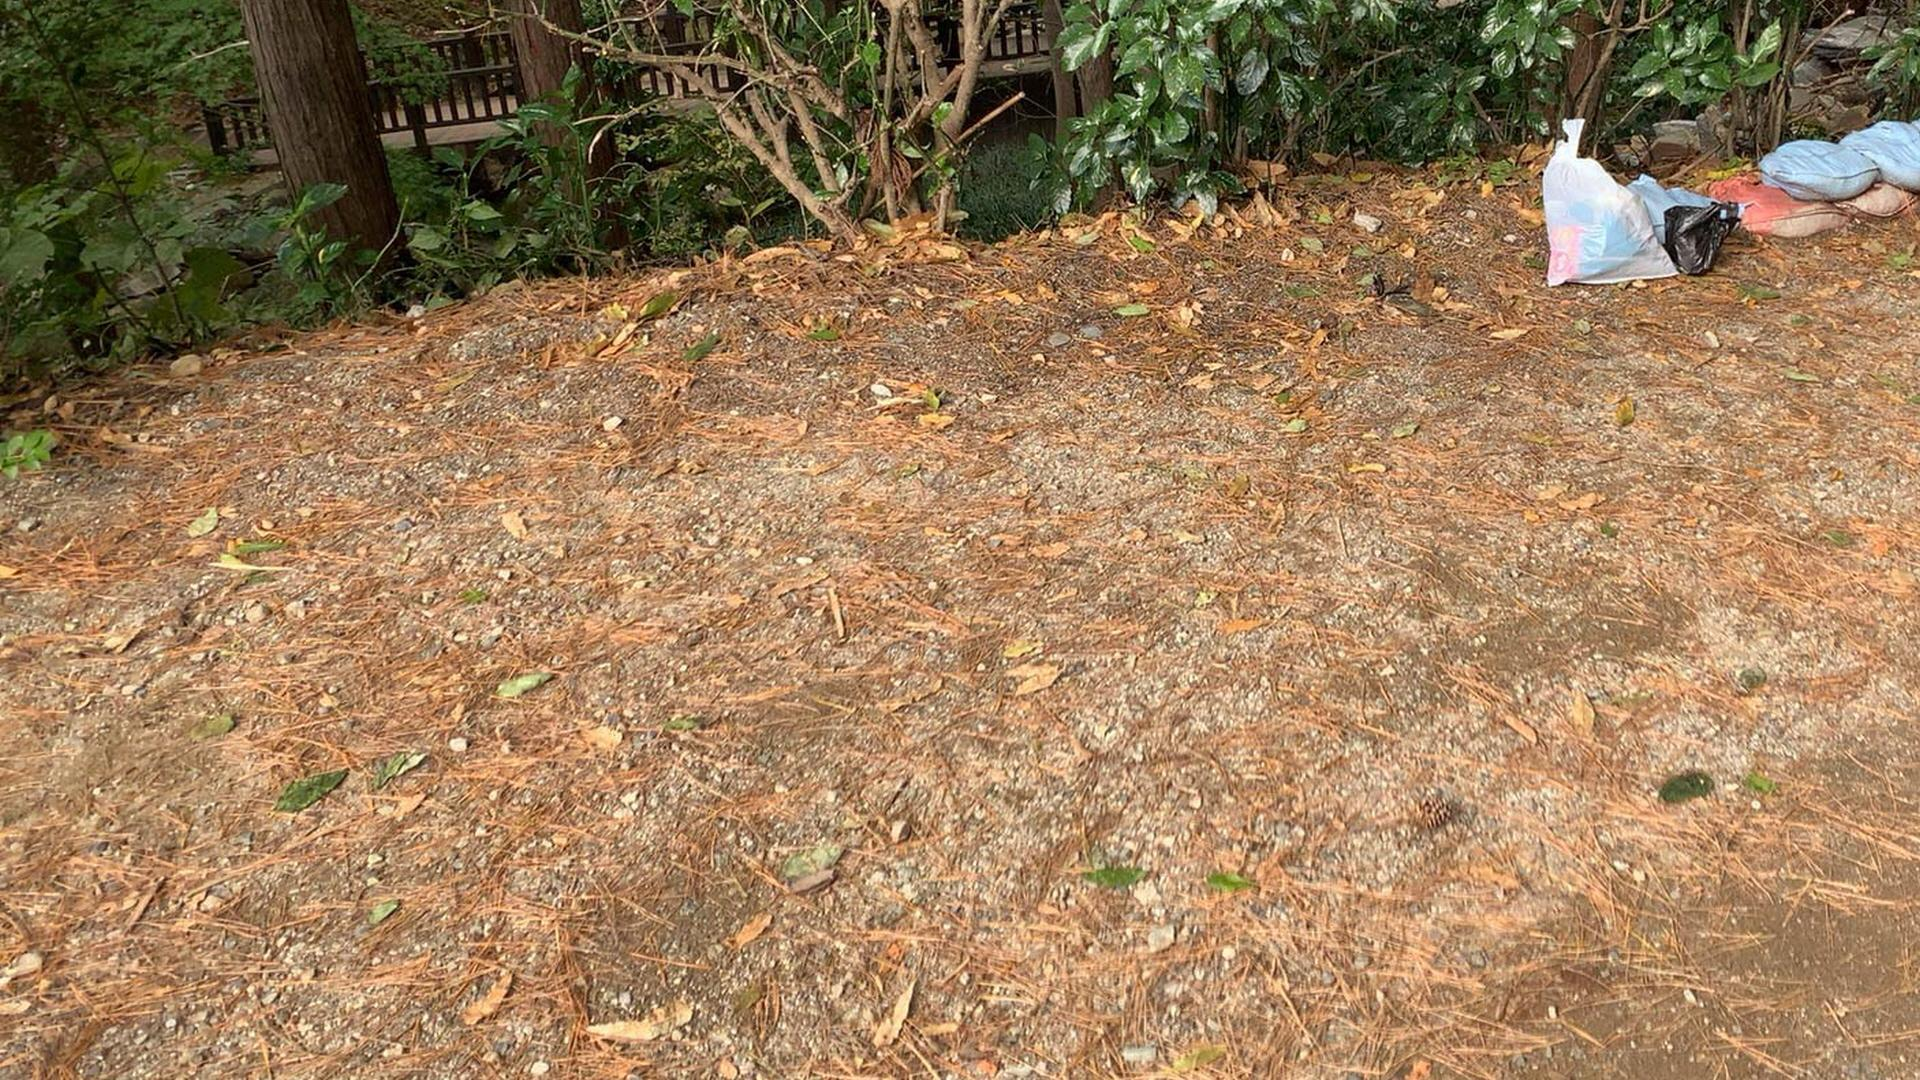black_bag: (1659, 196, 1745, 277)
white_bag: (1528, 109, 1680, 291)
